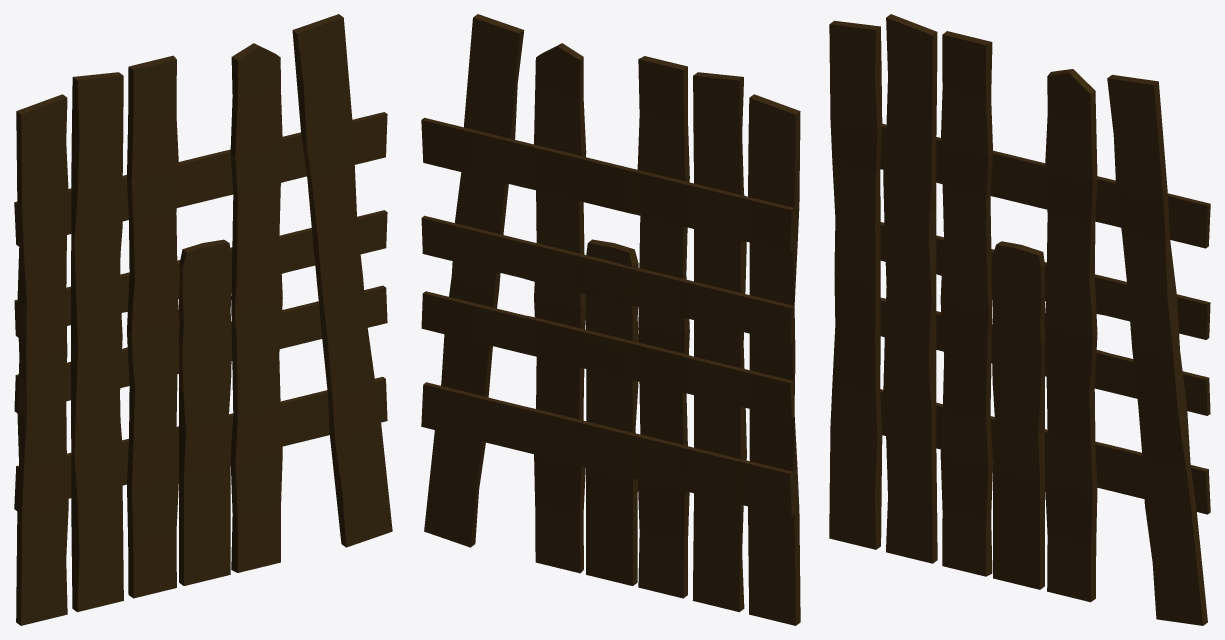
Rendered from DrawBridgePlank.fbx.
The picture shows the model from 3 angles, left to right: view 1: azimuth 30°, elevation 25°; view 2: azimuth 150°, elevation 25°; view 3: azimuth 330°, elevation 25°; orthographic projection.
Parts seen in each view (by area): view 1: Bridge; view 2: Bridge; view 3: Bridge.
Part boxes in pixels (bbox=[...]): Bridge: bbox=[14, 14, 392, 625]; Bridge: bbox=[421, 14, 800, 625]; Bridge: bbox=[829, 14, 1210, 625].
Size of the model in its own units: 689 by 943 by 25.91.
